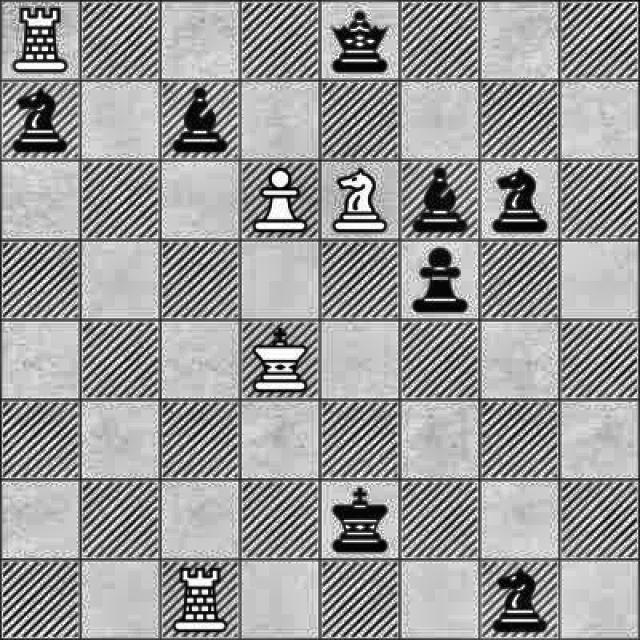Black Knight: (480, 560, 556, 640), (9, 80, 68, 155), (488, 167, 549, 237)
black bishop: (170, 83, 231, 159), (414, 162, 471, 238)
black king: (327, 478, 395, 562)
black pawn: (403, 244, 471, 318)
black queen: (324, 4, 392, 79)
white king: (247, 320, 311, 394)
white pawn: (247, 166, 311, 240)
white rook: (166, 563, 232, 635), (11, 2, 72, 79)
whiteknight: (326, 165, 391, 238)
